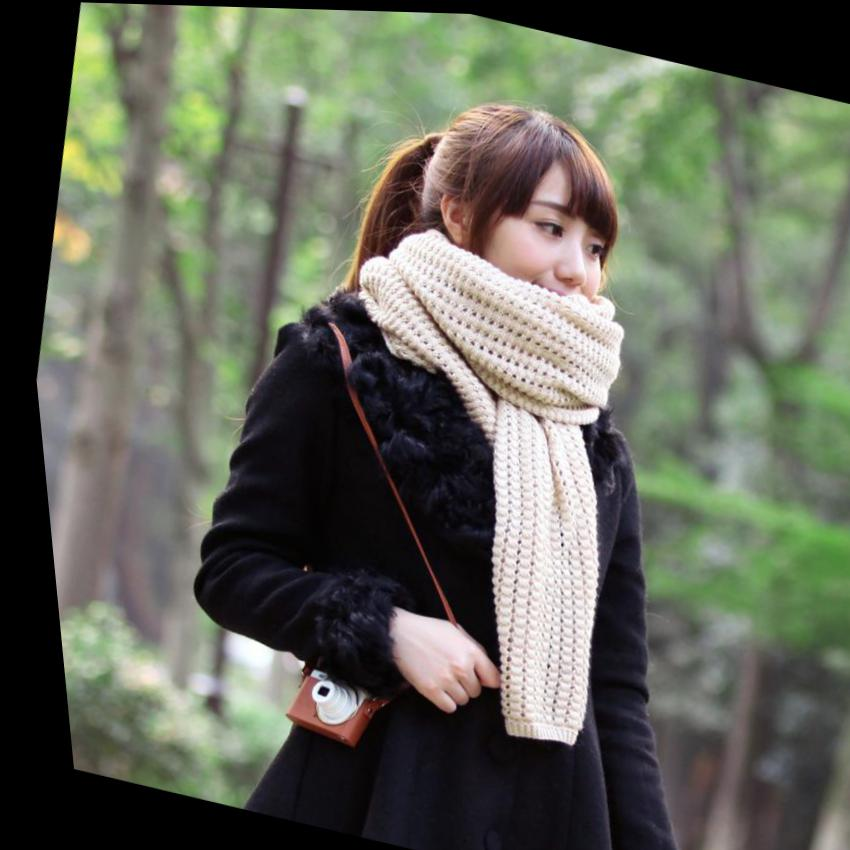WRONG: (455, 170, 627, 353)
